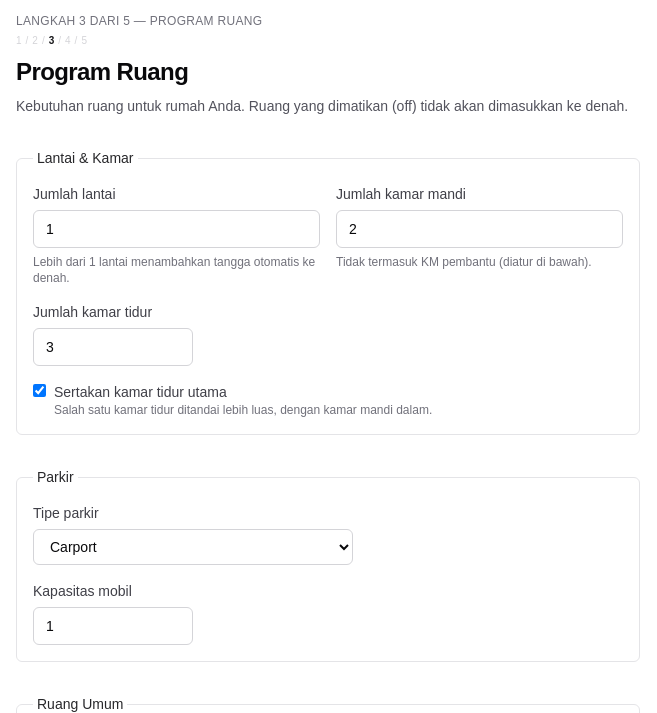
Test: ProgramRuangStepPage › hides kapasitas mobil when parkir tipe is tidak_ada
The width and height of the screenshot is (657, 713).
Expected: the number field labelled "Kapasitas mobil" is shown, [33,607,193,645]
Select "Tidak ada" in the dropdown labelled "Tipe parkir": [193, 547] box [33,529,353,565]
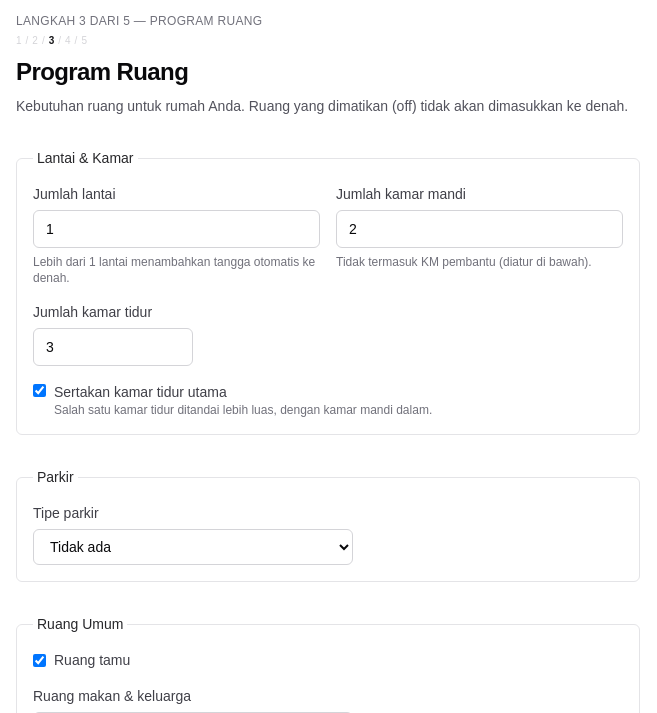
Expected: the label labelled "Kapasitas mobil" is gone
